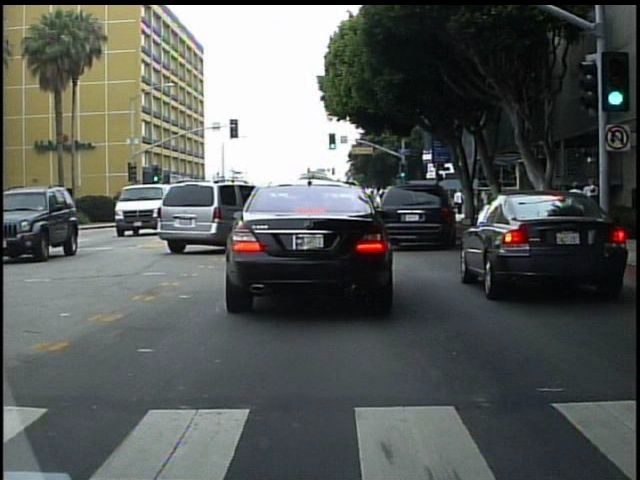person: (581, 173, 599, 233), (454, 186, 464, 216)
